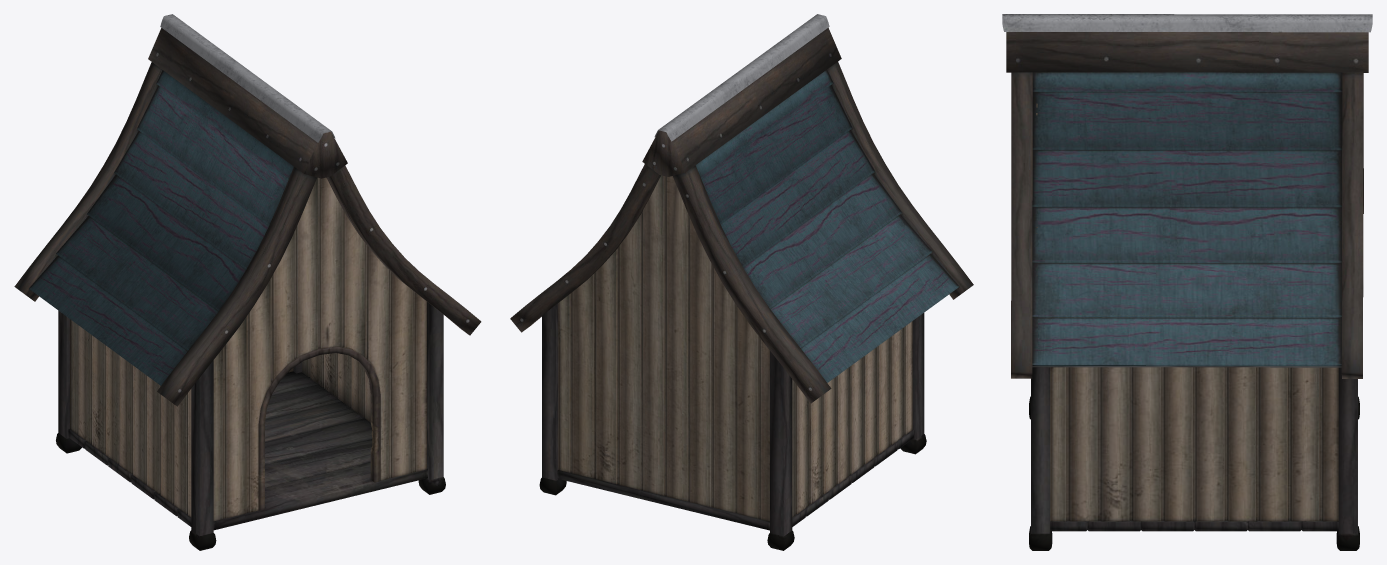
File: dog_house_2.FBX
The picture shows the model from 3 angles, left to right: view 1: azimuth 30°, elevation 25°; view 2: azimuth 150°, elevation 25°; view 3: azimuth 270°, elevation 25°; orthographic projection. The views are drawn at different scales.
Parts seen in each view (by area): view 1: dog_house_2; view 2: dog_house_2; view 3: dog_house_2.
Boxes of the visible parts, x1=… form: dog_house_2: x1=14, y1=14, x2=481, y2=550; dog_house_2: x1=510, y1=14, x2=973, y2=550; dog_house_2: x1=1002, y1=14, x2=1372, y2=550.
Bounding box in the file's own units: 120 × 145 × 105.
Materials: 2 (2 with a texture image).
